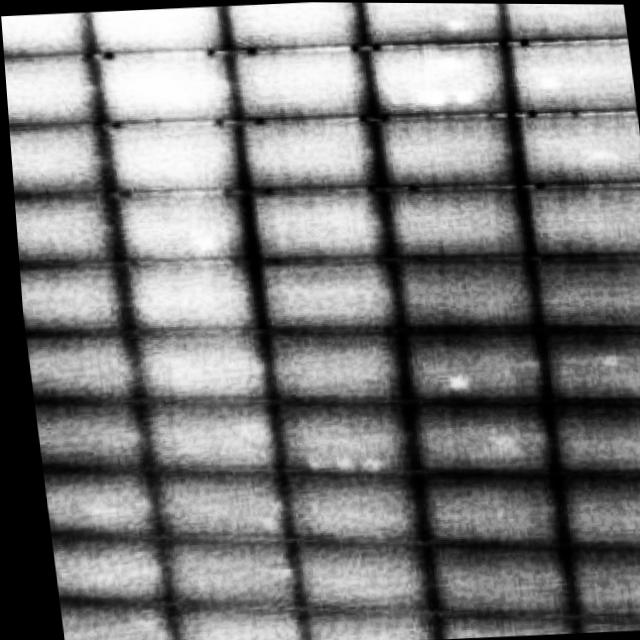Hotspots: (427, 362, 470, 405), (131, 70, 180, 98), (417, 86, 450, 108), (431, 53, 463, 73), (531, 75, 565, 91), (446, 86, 472, 105), (442, 15, 469, 32)
PV-modules: (270, 455, 419, 553), (412, 527, 565, 622), (258, 321, 406, 417), (406, 463, 556, 557), (390, 318, 541, 410), (400, 396, 549, 488), (90, 46, 239, 136), (264, 394, 409, 486), (384, 244, 535, 332), (276, 527, 428, 614), (249, 247, 399, 335), (119, 324, 274, 409), (368, 105, 518, 192), (97, 120, 246, 207), (106, 256, 267, 336), (378, 179, 527, 265), (243, 183, 392, 268), (102, 185, 253, 268), (361, 36, 510, 120), (236, 117, 384, 201), (228, 40, 375, 124), (136, 466, 291, 545), (129, 398, 281, 478), (505, 107, 640, 196), (145, 535, 297, 612), (498, 31, 635, 115), (515, 176, 640, 262), (522, 242, 640, 333), (19, 320, 133, 413), (28, 390, 143, 482), (15, 254, 124, 351), (527, 315, 640, 408), (538, 462, 640, 561), (43, 525, 159, 611), (533, 395, 640, 486), (35, 461, 149, 545), (7, 114, 108, 208), (11, 190, 116, 274), (547, 541, 640, 634), (3, 48, 104, 133), (46, 570, 157, 640), (84, 5, 228, 55), (222, 1, 365, 50), (355, 2, 504, 48), (154, 596, 292, 640), (286, 599, 426, 640), (497, 3, 628, 46), (416, 606, 563, 640), (1, 12, 91, 62)
